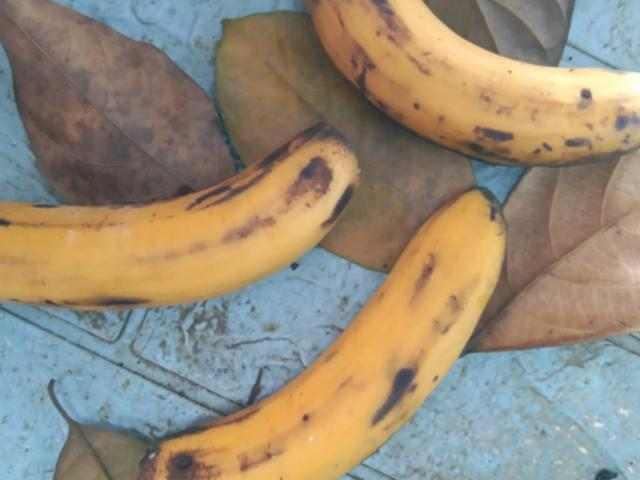overripe: (0, 116, 375, 320), (308, 1, 639, 184)
ripe: (125, 180, 515, 479)
